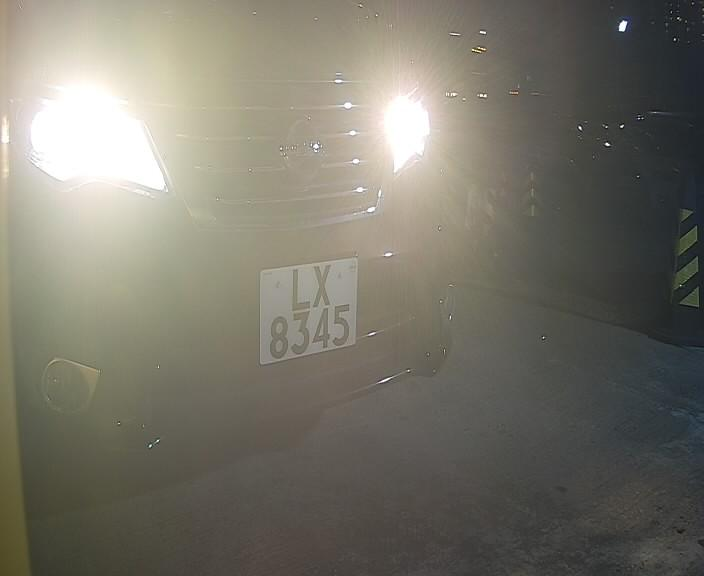Car: (54, 3, 579, 471)
License Plate: (249, 250, 371, 376)
